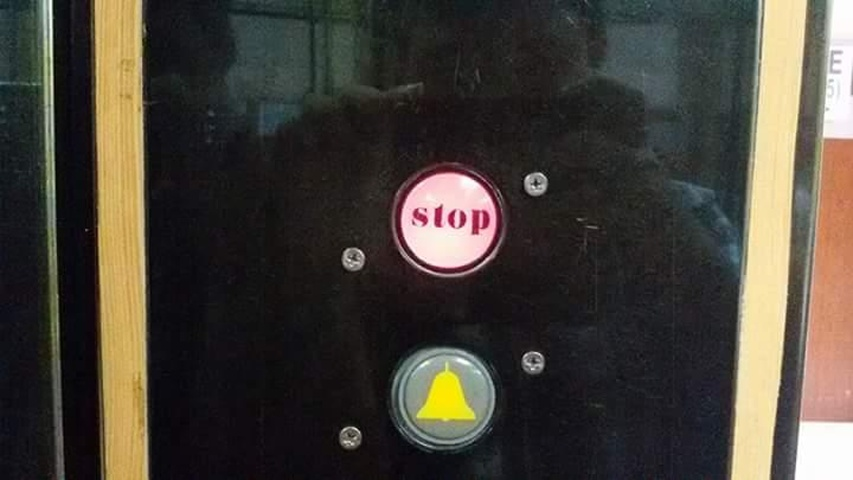alarm: (381, 339, 509, 454)
stop: (385, 152, 513, 278)
